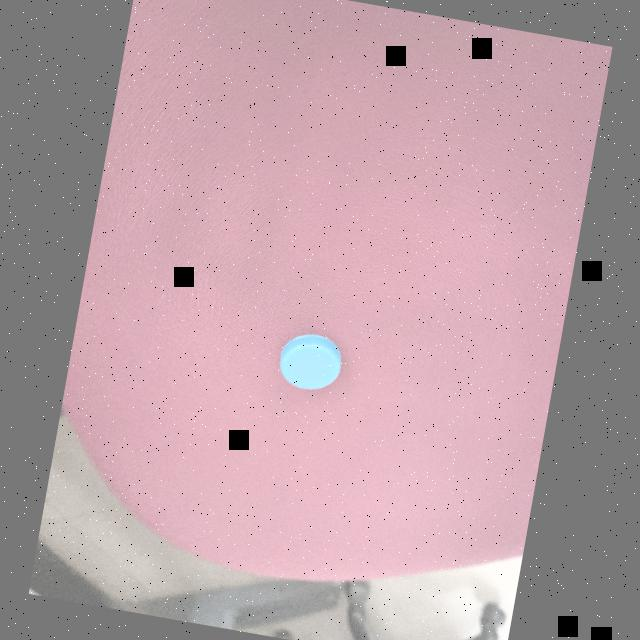plastic_bottle_cap: (270, 324, 356, 399)
